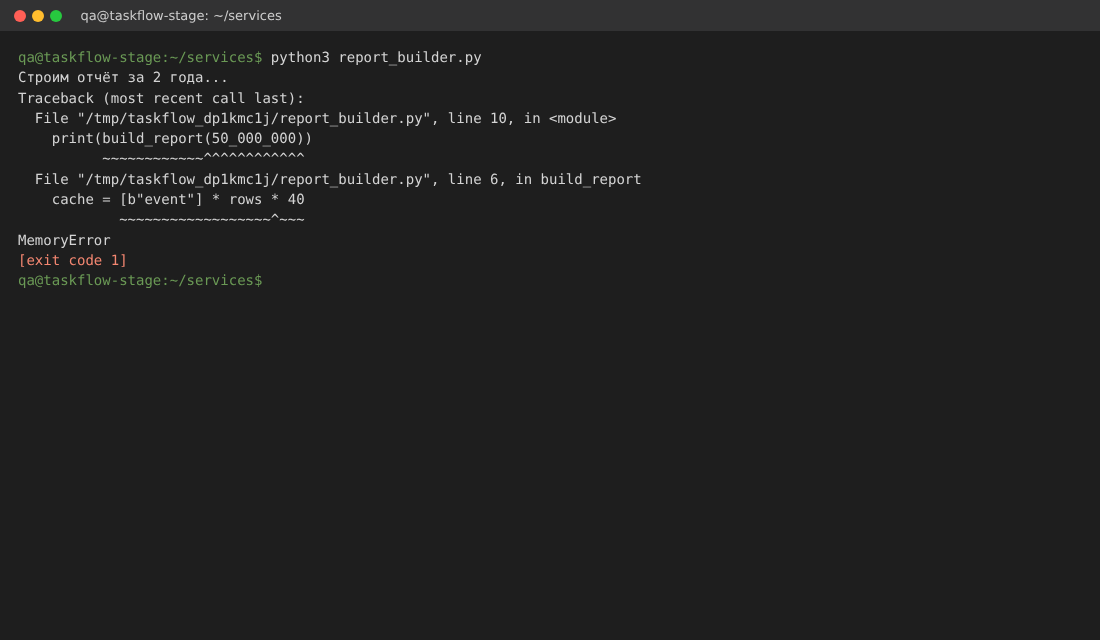ERROR_TEXT: (18, 234, 110, 248)
PII: (19, 51, 162, 66), (19, 274, 161, 288), (81, 10, 208, 23)
STACK_TRACE: (18, 92, 641, 248)
STATUS_INDICATOR: (21, 254, 125, 267)
